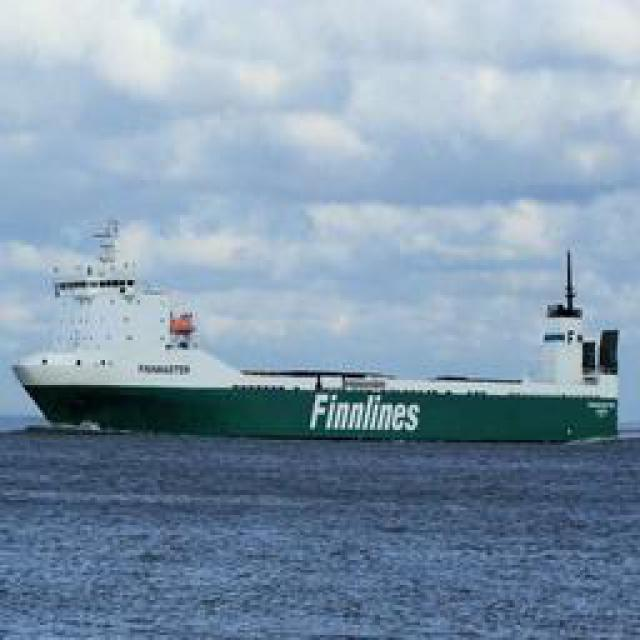Ship: (13, 241, 619, 446)
